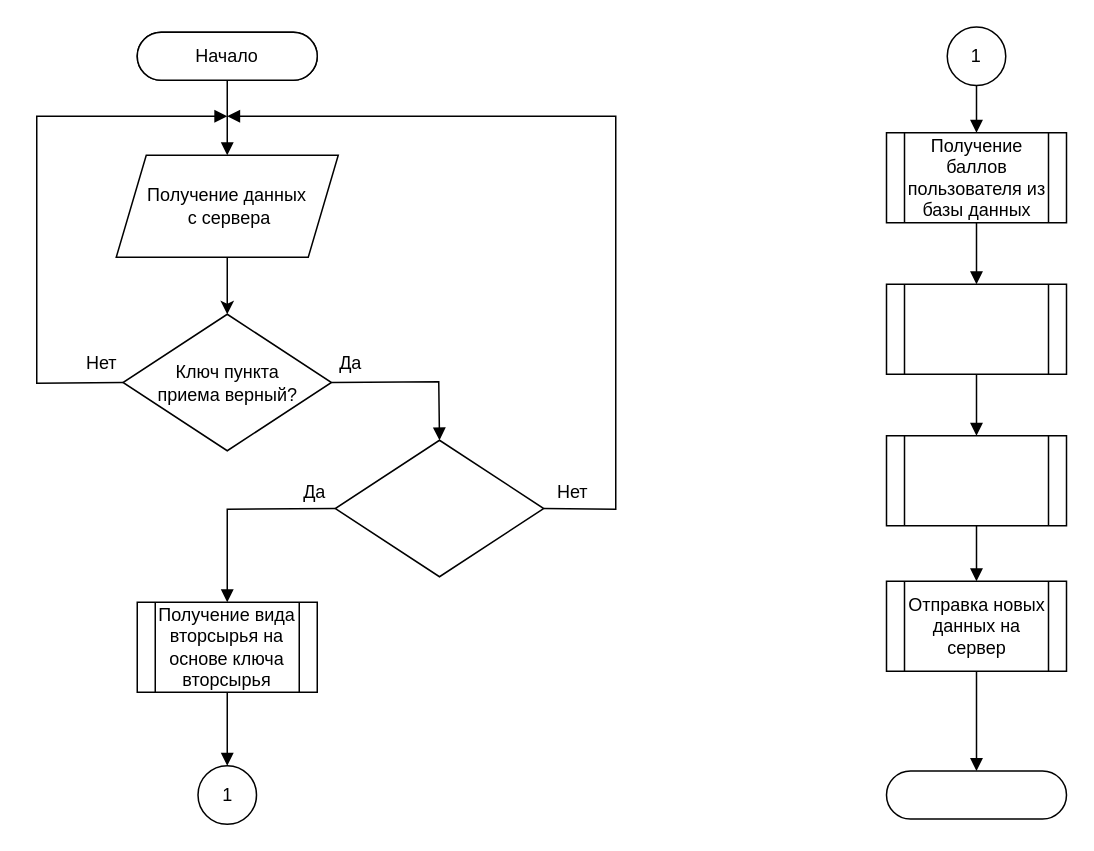
This 1094x851 diagram has some shape labels left out. The shapes that lost their labels are listed below. From the top down, each one's box as (x1, y1, x2, y2) in pixels, then its label:
(885, 283, 1066, 374): Расчет новых баллов и новой продукции
(885, 434, 1066, 526): Обновление бонусных баллов пользователя
(334, 439, 544, 577): Ключ вторсырья верный?
(885, 770, 1066, 819): Конец
